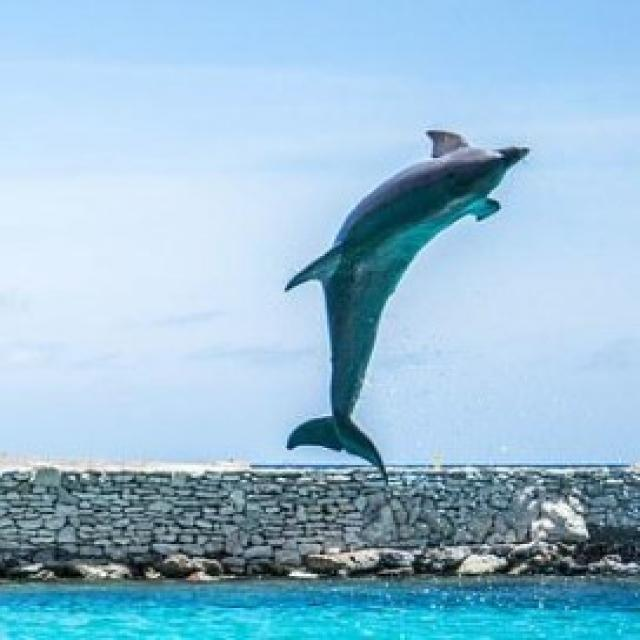Dolphin: (268, 124, 542, 484)
